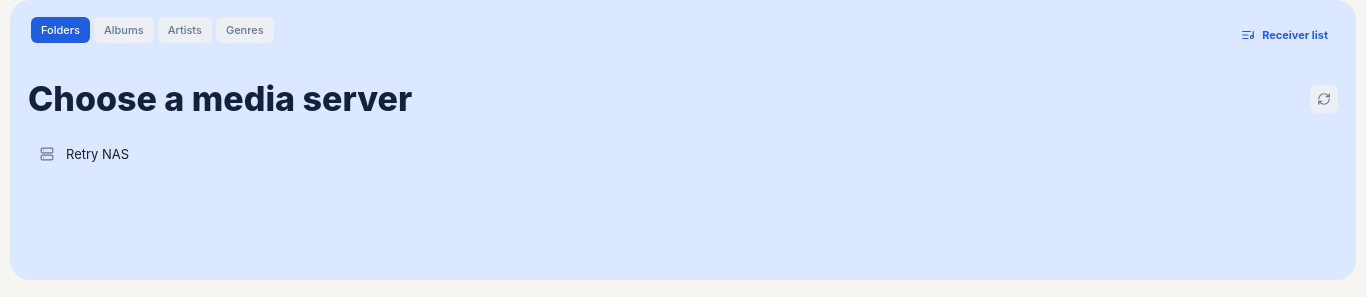
NetList › retries the failed browse in place without describing the folder as empty
The image size is (1366, 297).
Click the button with aria-label "Open media server Retry NAS".
click(98, 154)  # box [28, 135, 1334, 173]
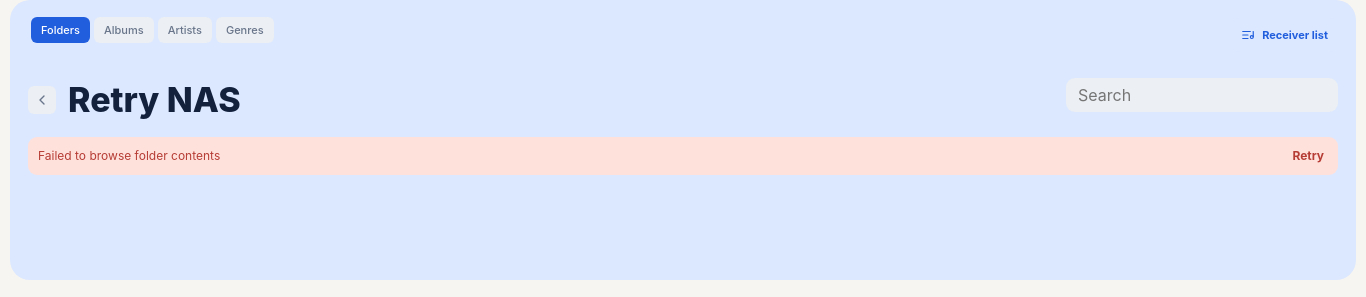
expect the message shows "Failed to browse folder contents": met, box [38, 148, 220, 163]
Click the button with aria-label "Retry browse".
click(1308, 156)  # box [1288, 146, 1328, 166]
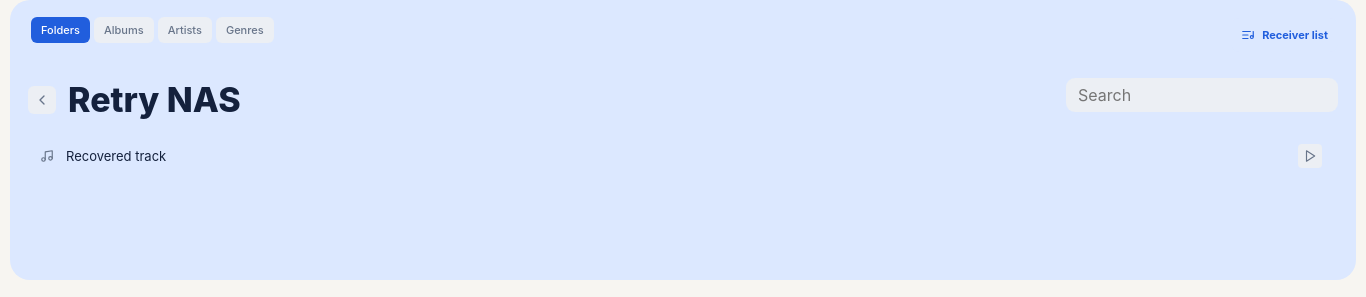
expect the button with aria-label "Play Recovered track" is shown: met, box [28, 137, 1334, 175]
expect the message "Failed to browse folder contents Retry" is gone: met
